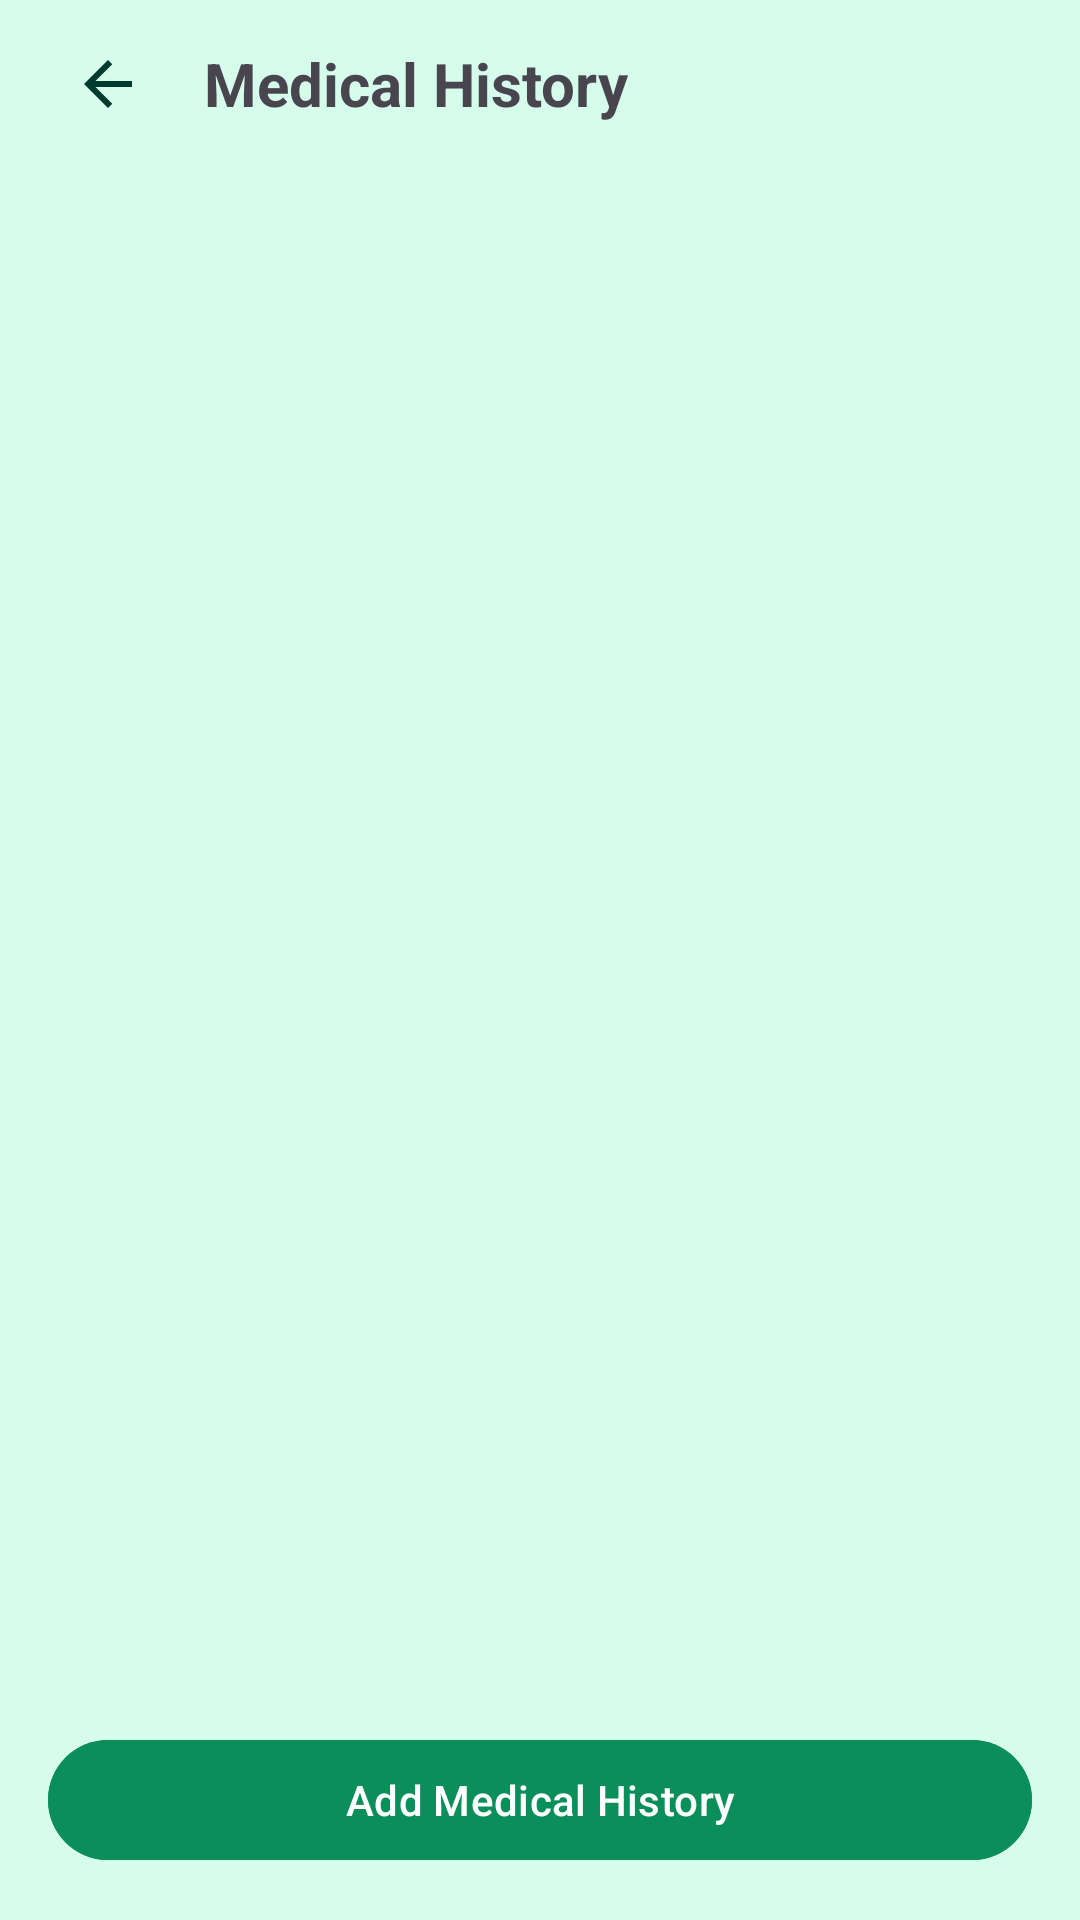

Named icons in this screenshot (1080w x 1920h) and their centers, (x=x, y=y):
Back: (x=108, y=84)
